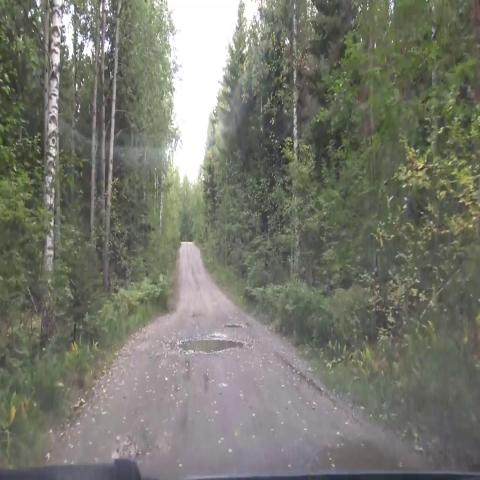pothole: (172, 324, 247, 368), (107, 424, 163, 465), (220, 308, 252, 332)
